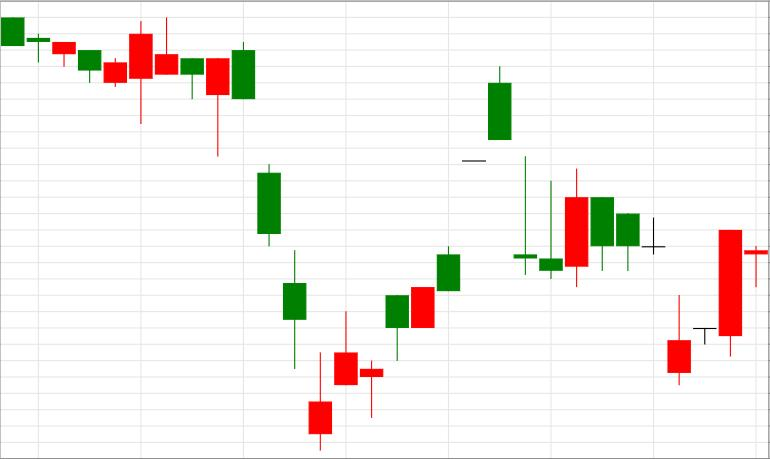inverse_hammer_rise: (232, 42, 332, 451), (591, 197, 691, 386)
